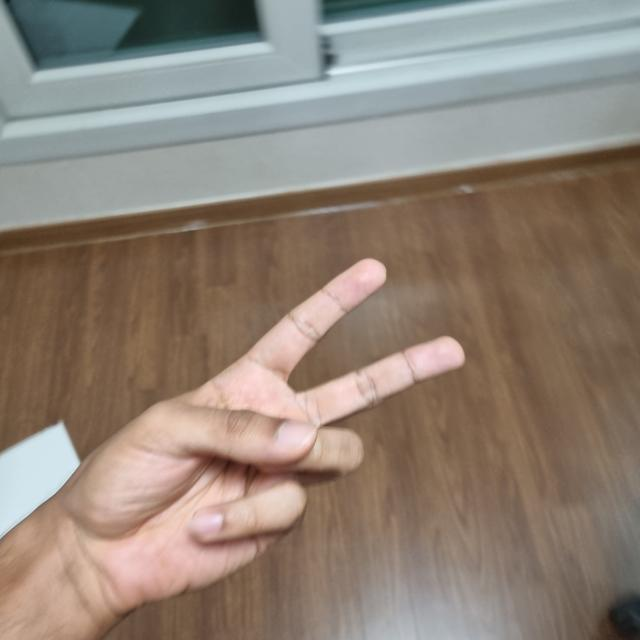Scissors: (68, 263, 453, 601)
